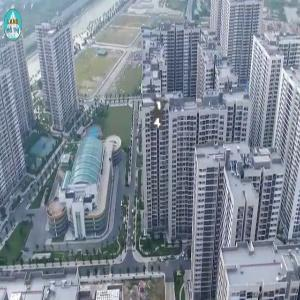drone: (117, 70, 204, 157)
